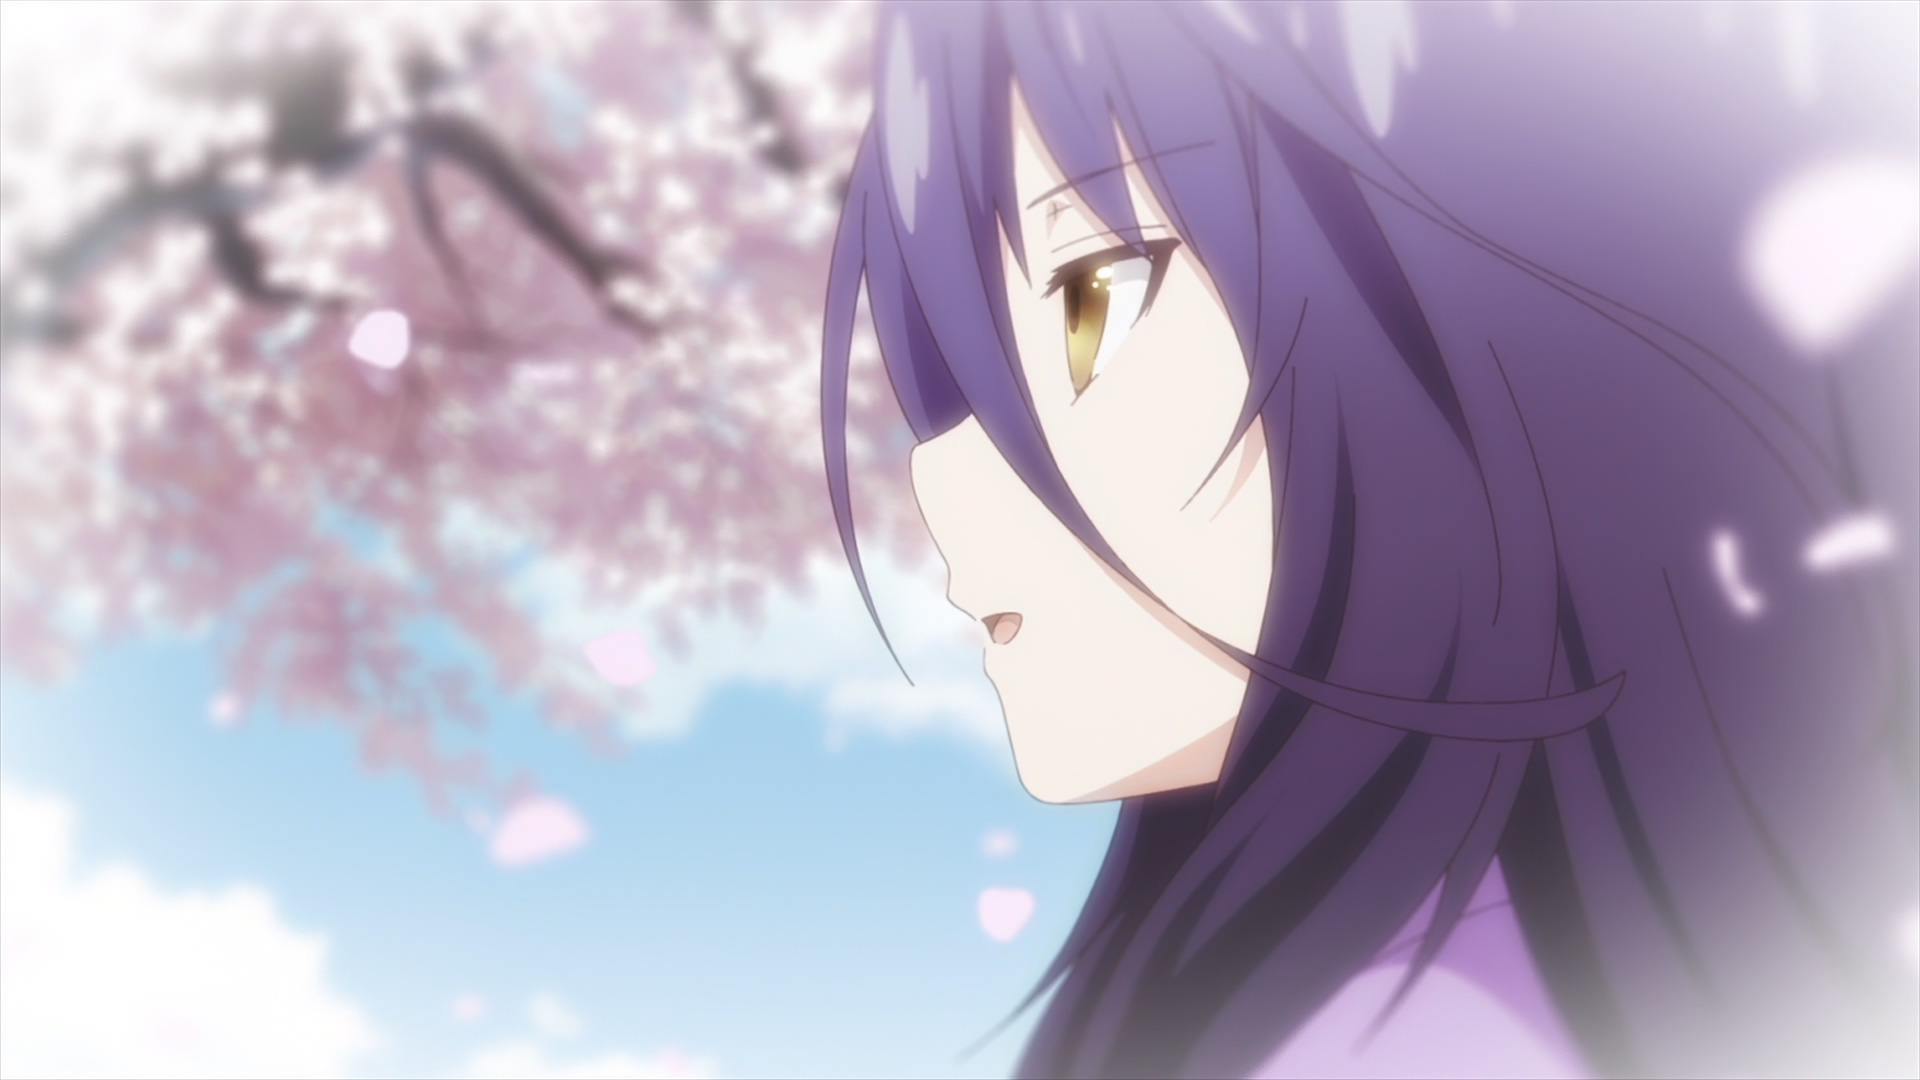皋: (818, 1, 1920, 1080)
